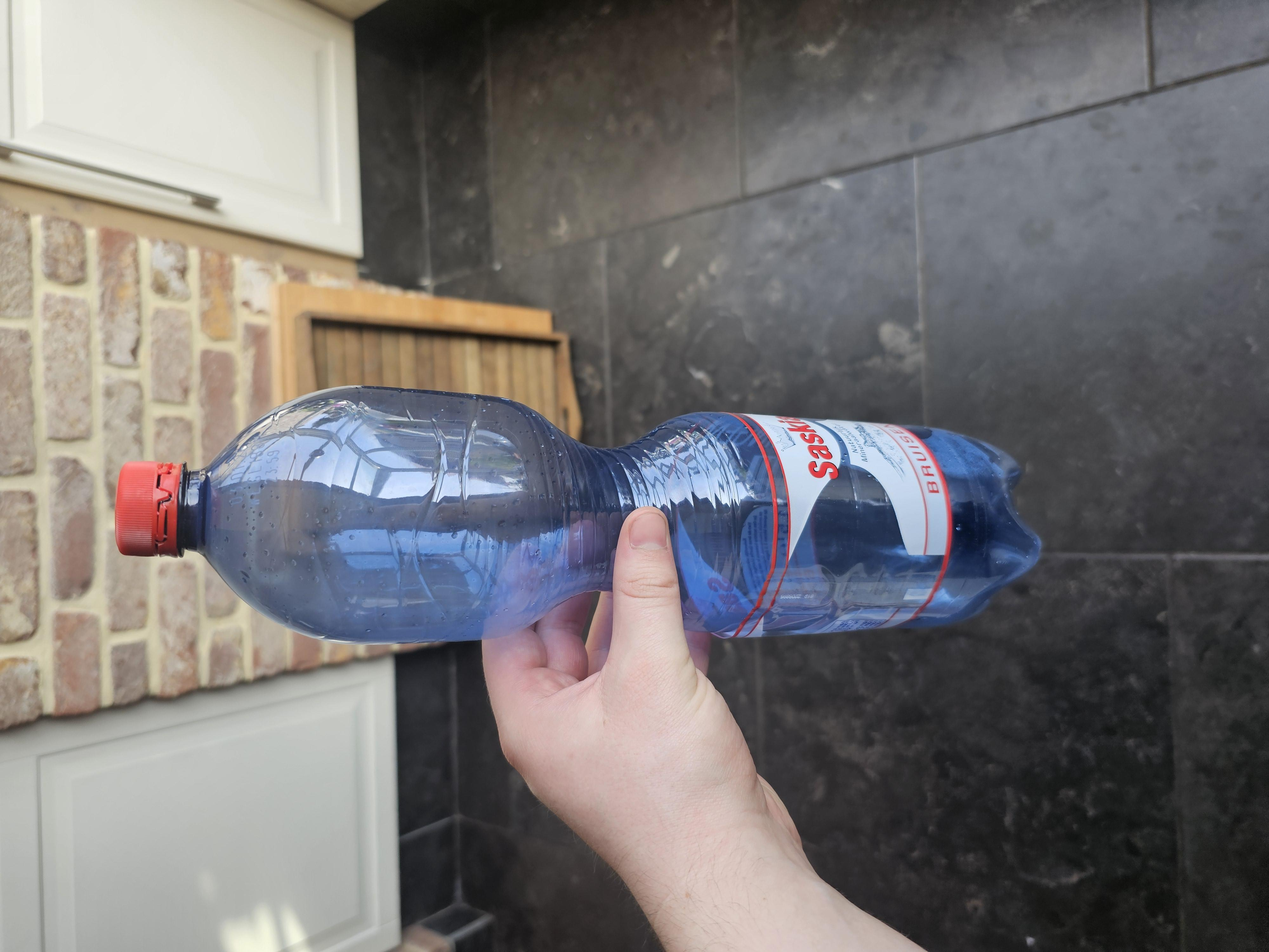Plastic: (406, 86, 758, 787)
